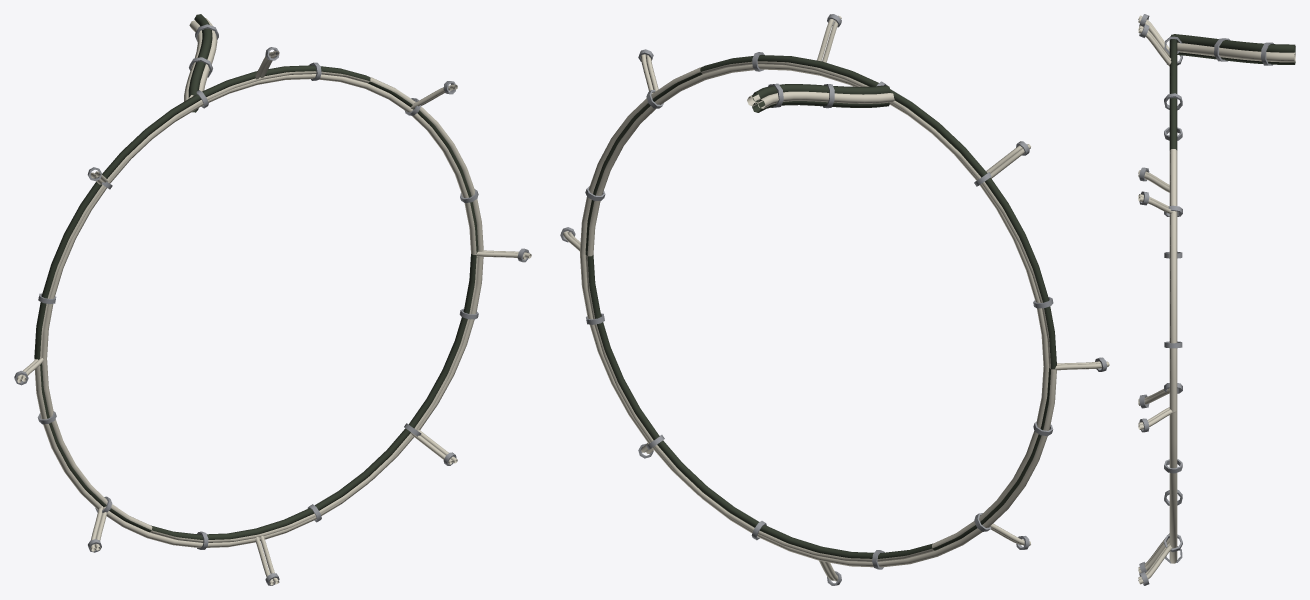
File: tz16v_harness.obj
3 renders of one model, left to right at view 1: azimuth 30°, elevation 25°; view 2: azimuth 150°, elevation 25°; view 3: azimuth 270°, elevation 25°, orthographic. The views are drawn at different scales.
Visible parts, largest first — view 1: tz16v_harness; view 2: tz16v_harness; view 3: tz16v_harness.
Part boxes in pixels (<box>): tz16v_harness: <box>14,14,531,585</box>; tz16v_harness: <box>560,14,1109,585</box>; tz16v_harness: <box>1138,14,1295,585</box>.
Bounding box in the file's own units: 2.48 × 2.48 × 0.6402.
